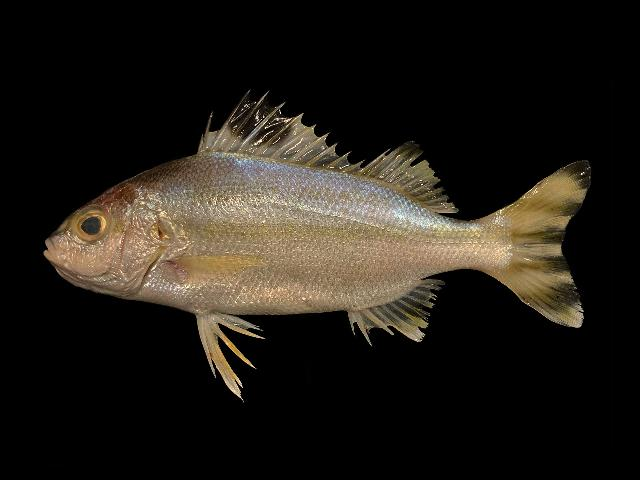Mulut: (27, 218, 82, 282)
Sirip Anal: (347, 264, 447, 347)
Sirip Dada: (165, 243, 268, 291)
Sirip Ekor: (501, 150, 604, 336)
Sirip Perut: (193, 300, 275, 408)
Sirip Punggung: (195, 82, 461, 218)
